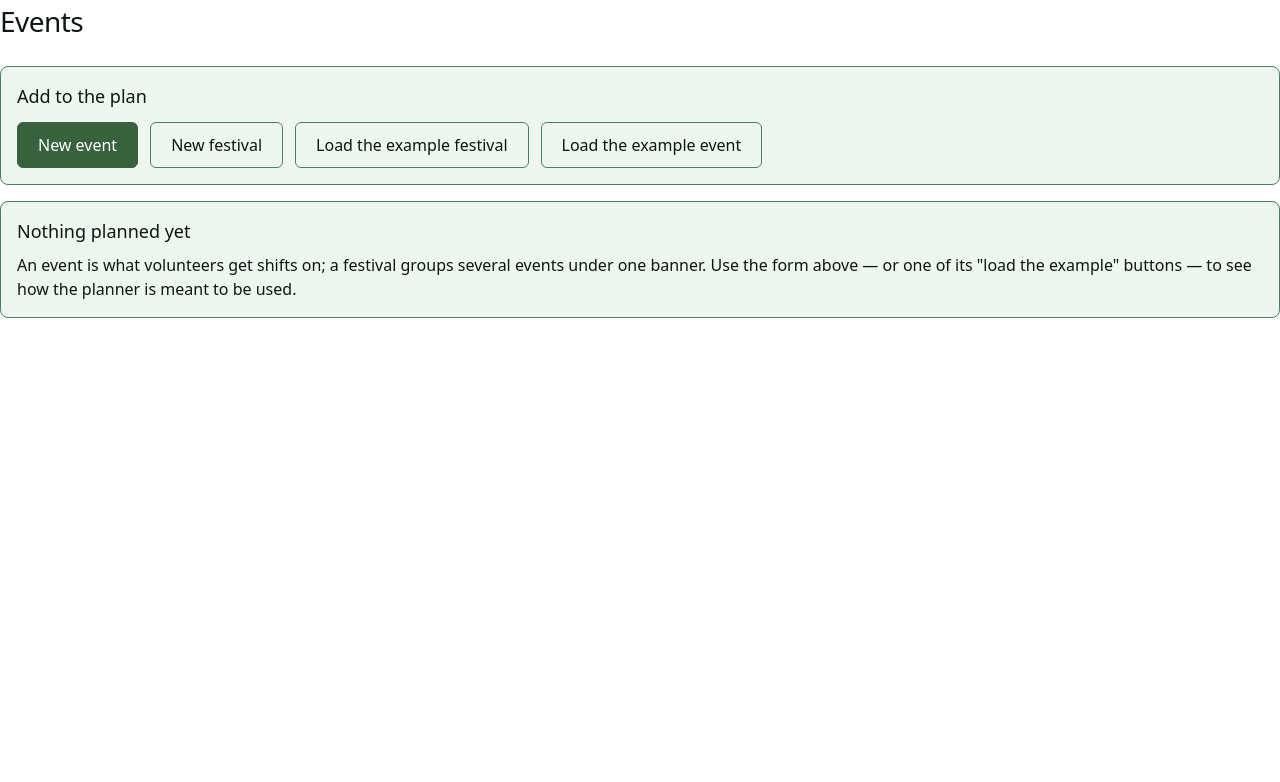
Test case: EventsView › switches the submit target when the festival form is the one open
Click the button "New festival" at x=217, y=145, box x1=150 y1=122 x2=283 y2=168
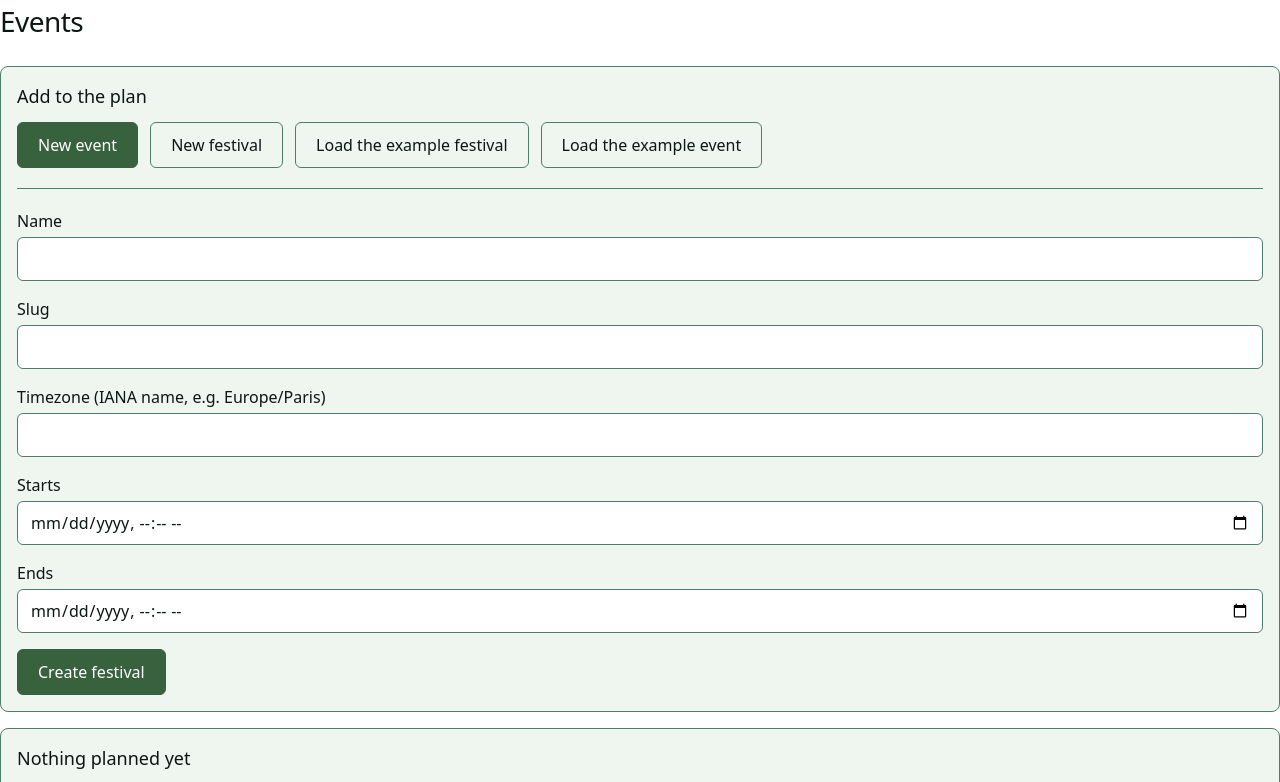
Result: the element with id "create-form" is shown
Result: the submit button reads "Create festival" at x1=17 y1=649 x2=166 y2=695
